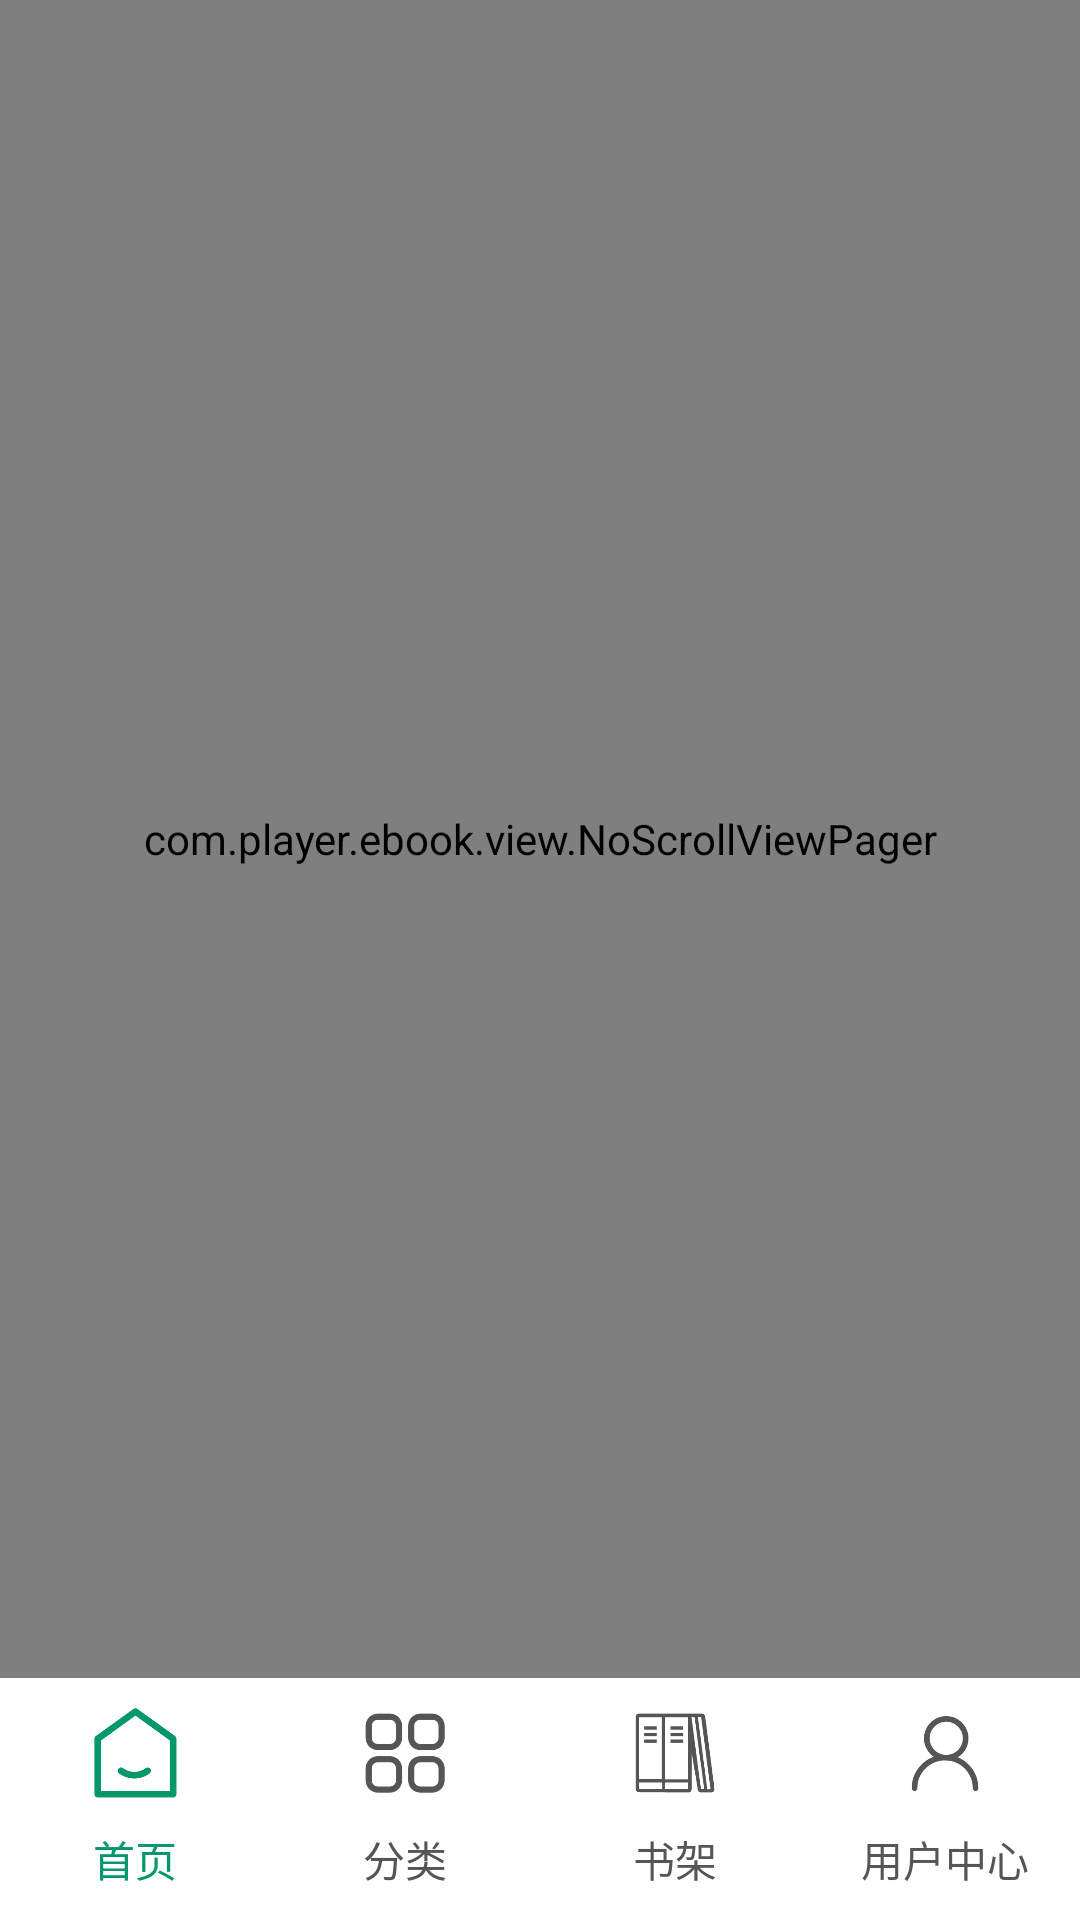

Named icons in this screenshot (1080w x 1920h) and their bounding boxes, [x1=x1, y1=y1, x2=x2, y2=y2]:
user: [x1=912, y1=1716, x2=979, y2=1791]
